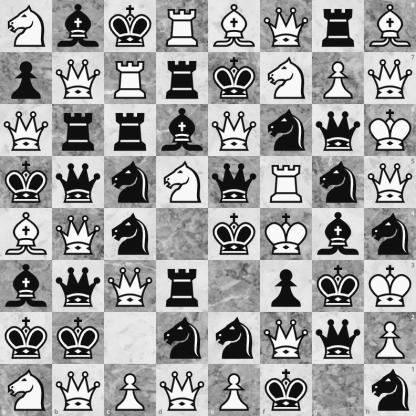B: (364, 0, 416, 52), (1, 209, 52, 260), (209, 1, 260, 52)
K: (364, 104, 416, 156), (364, 260, 416, 312), (261, 209, 312, 260)
N: (0, 364, 52, 416), (1, 1, 52, 52), (157, 157, 208, 208), (261, 53, 312, 104)
P: (104, 364, 156, 416), (364, 312, 416, 364), (209, 364, 260, 416), (313, 53, 364, 104)
Q: (156, 364, 209, 416), (364, 156, 416, 209), (52, 364, 104, 416), (364, 52, 416, 104), (1, 105, 52, 156), (53, 53, 104, 104), (53, 209, 104, 260), (105, 261, 156, 312), (209, 105, 260, 156), (261, 1, 312, 52), (261, 313, 312, 364)
R: (105, 53, 156, 104), (157, 1, 208, 52), (261, 157, 312, 208)
b: (1, 261, 52, 312), (53, 1, 104, 52), (157, 105, 208, 156), (313, 209, 364, 260)
board: (0, 0, 415, 415)
k: (260, 364, 312, 416), (1, 157, 52, 208), (1, 313, 52, 364), (53, 313, 104, 364), (105, 1, 156, 52), (209, 53, 260, 104), (209, 209, 260, 260), (313, 261, 364, 312)
n: (364, 364, 416, 416), (364, 209, 416, 260), (105, 157, 156, 208), (105, 209, 156, 260), (157, 313, 208, 364), (209, 313, 260, 364), (261, 105, 312, 156), (313, 157, 364, 208)
p: (1, 53, 52, 104), (261, 261, 312, 312)
q: (53, 157, 104, 208), (53, 261, 104, 312), (209, 157, 260, 208), (313, 105, 364, 156), (313, 313, 364, 364)
r: (53, 105, 104, 156), (105, 105, 156, 156), (157, 53, 208, 104), (157, 261, 208, 312), (313, 1, 364, 52)
